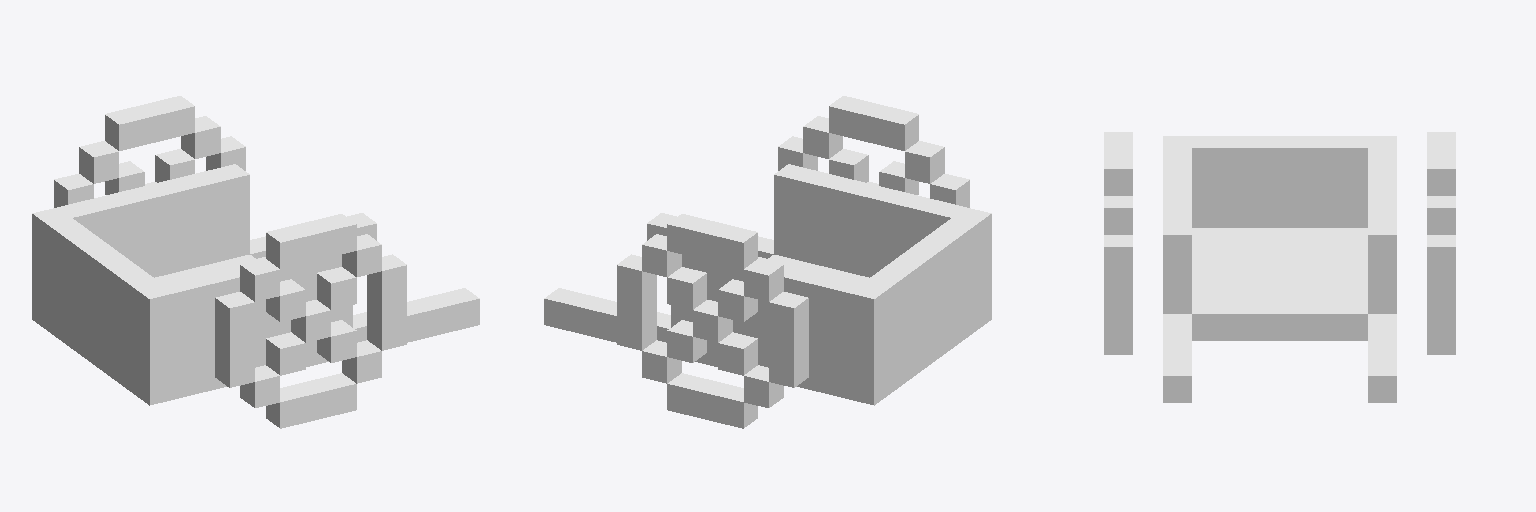
Rendered from Wagon.obj.
3 views of the same model, side by side, from view 1: azimuth 30°, elevation 25°; view 2: azimuth 150°, elevation 25°; view 3: azimuth 270°, elevation 25° (orthographic).
Size of the model in its own units: 13 by 7 by 12.